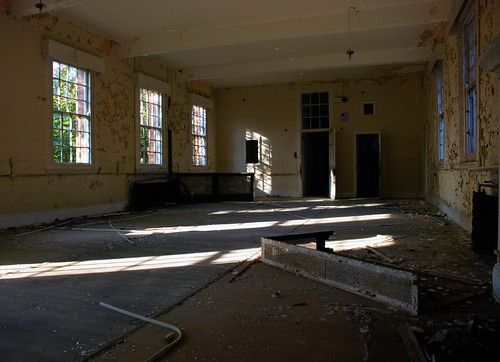door: (304, 132, 329, 199), (355, 131, 380, 198)
window: (50, 58, 90, 164), (138, 89, 165, 164), (188, 104, 208, 166)
